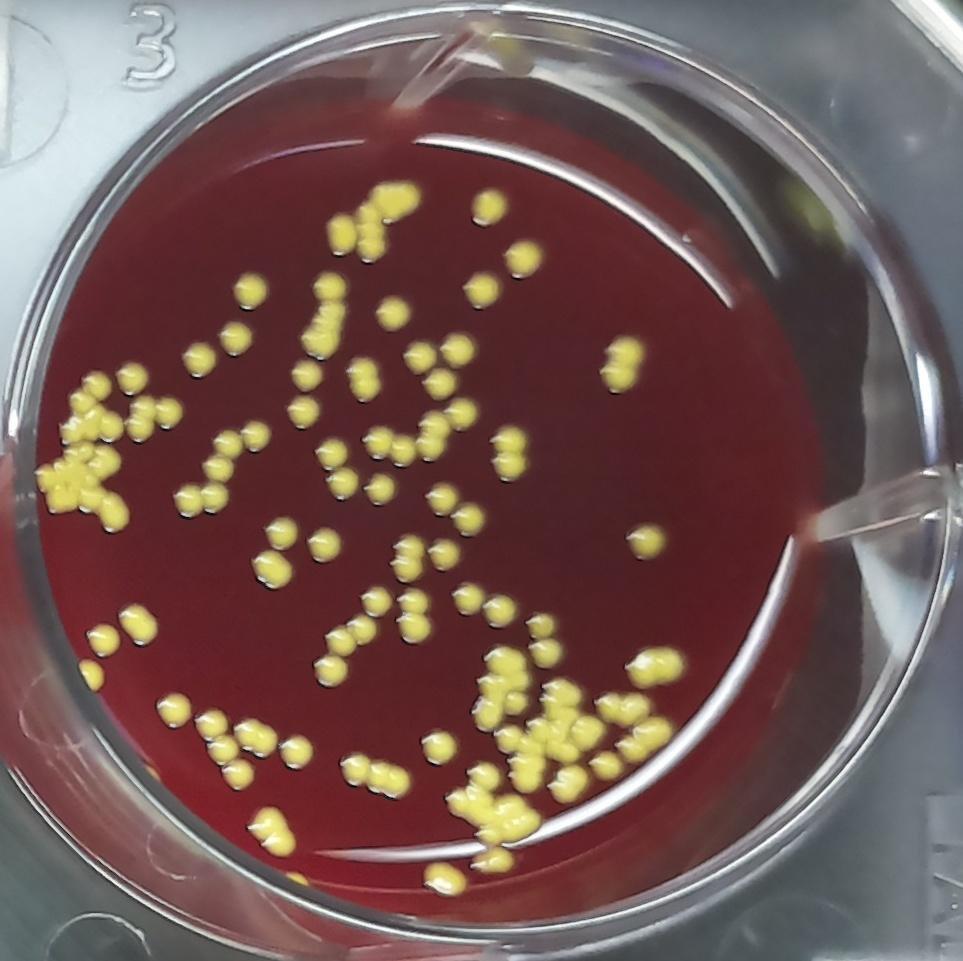mluteus: (32, 443, 126, 514), (467, 643, 530, 732), (449, 792, 538, 846), (595, 327, 648, 404), (334, 749, 413, 800), (617, 643, 693, 692), (244, 799, 299, 863), (617, 509, 673, 570), (612, 710, 674, 763), (299, 301, 347, 364), (170, 478, 233, 523), (488, 421, 532, 485), (545, 760, 594, 814), (355, 194, 390, 267), (59, 390, 108, 442), (116, 597, 162, 651), (371, 176, 427, 220), (249, 547, 300, 594), (594, 690, 655, 729), (420, 860, 471, 906), (231, 715, 280, 762), (500, 236, 549, 283), (467, 186, 514, 229), (418, 726, 462, 771), (458, 267, 502, 312), (388, 532, 427, 581), (97, 488, 135, 538), (82, 620, 126, 663), (122, 393, 160, 442), (505, 752, 548, 794), (344, 356, 382, 403), (466, 843, 520, 876), (416, 410, 450, 462), (302, 523, 344, 565), (309, 650, 354, 688), (323, 208, 355, 261), (479, 592, 520, 633), (446, 578, 486, 619), (216, 319, 256, 360), (154, 689, 197, 727), (437, 331, 478, 370), (279, 733, 318, 772), (373, 294, 412, 333), (451, 500, 489, 540), (421, 482, 462, 519), (263, 512, 301, 551), (220, 757, 260, 794), (179, 338, 216, 378), (420, 365, 461, 401), (425, 535, 464, 572), (358, 582, 397, 619), (360, 471, 399, 508), (320, 466, 360, 502), (115, 357, 151, 397), (398, 341, 437, 377), (308, 266, 348, 301), (285, 393, 322, 430), (357, 422, 394, 459), (195, 706, 233, 742), (233, 271, 268, 310), (463, 758, 500, 794), (239, 418, 275, 455), (208, 427, 245, 463), (79, 368, 115, 405), (313, 436, 351, 471), (206, 731, 241, 767), (152, 394, 188, 429), (77, 655, 109, 694), (529, 637, 567, 669), (492, 720, 527, 754), (444, 395, 479, 429), (395, 615, 431, 648), (390, 431, 420, 470), (202, 451, 236, 484), (591, 751, 626, 783), (526, 606, 559, 639), (397, 586, 430, 616), (97, 408, 127, 440), (565, 845, 565, 846)
